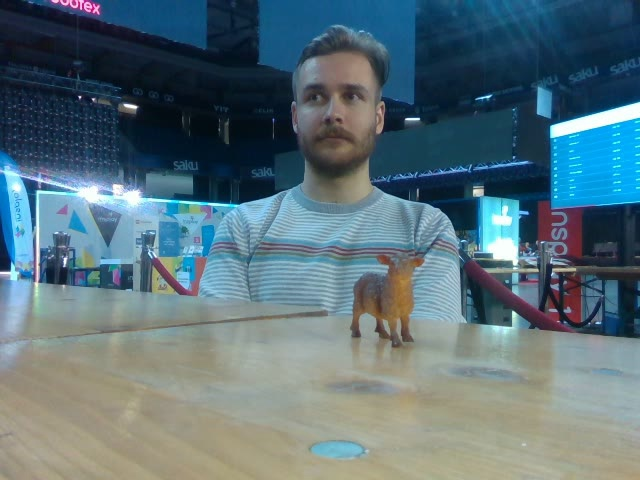toy: (349, 253, 426, 348)
